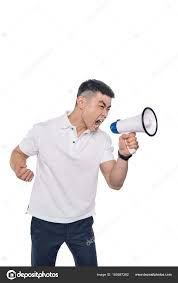no-mask: (67, 79, 116, 138)
